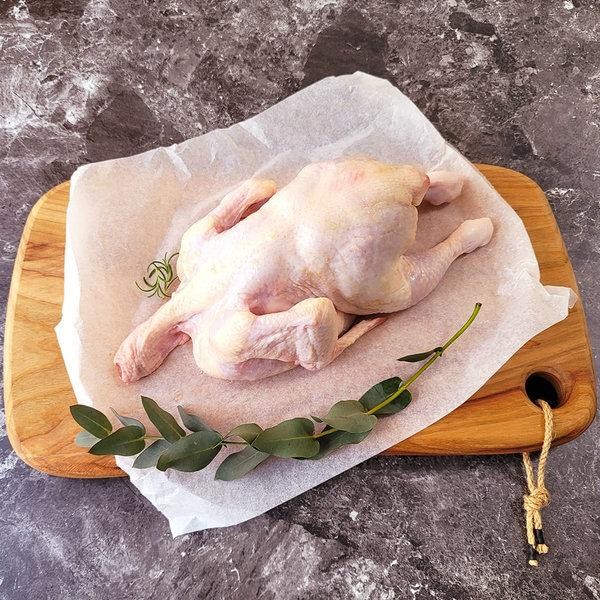chicken: (105, 133, 464, 361)
